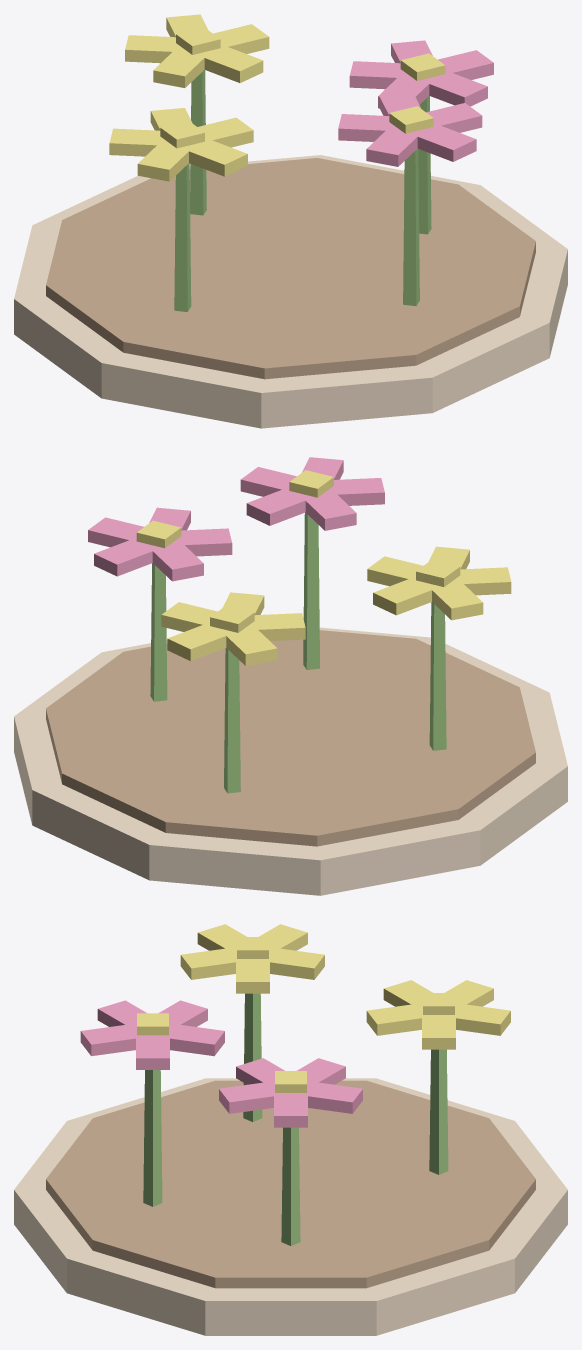
Rendered from PG_FlowerBed_Round.fbx.
3 views of the same model, one above another, from view 1: azimuth 30°, elevation 25°; view 2: azimuth 150°, elevation 25°; view 3: azimuth 270°, elevation 25° (orthographic). The views are drawn at different scales.
Visible parts, largest first — view 1: PG_FlowerBed_Round; view 2: PG_FlowerBed_Round; view 3: PG_FlowerBed_Round.
Boxes of the visible parts, x1=… form: PG_FlowerBed_Round: x1=14, y1=14, x2=567, y2=428; PG_FlowerBed_Round: x1=14, y1=457, x2=567, y2=895; PG_FlowerBed_Round: x1=14, y1=924, x2=567, y2=1335.
Bounding box in the file's own units: 1.38 × 0.6623 × 1.46.
